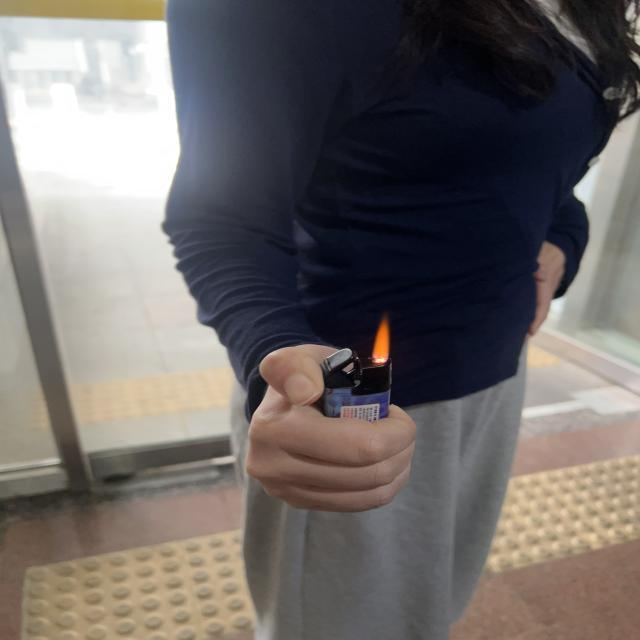fire: (370, 315, 392, 370)
